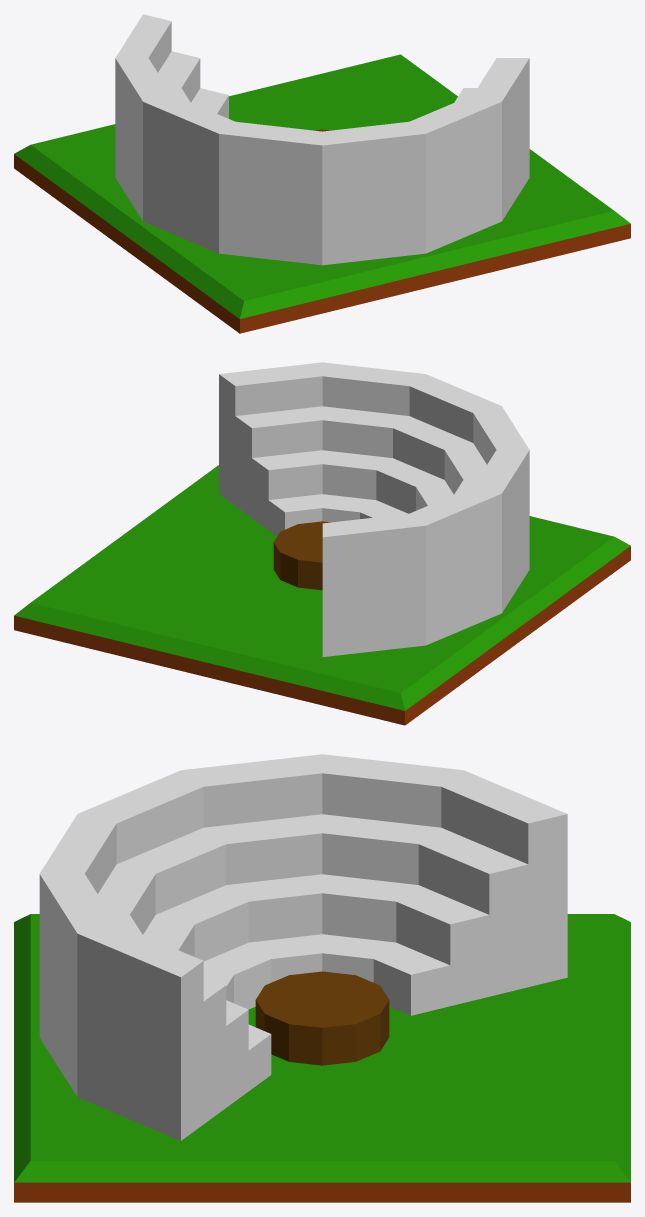
The model's file is Stage.fbx.
The picture shows the model from 3 angles, top to bottom: view 1: azimuth 30°, elevation 25°; view 2: azimuth 150°, elevation 25°; view 3: azimuth 270°, elevation 25°; orthographic projection. The views are drawn at different scales.
Parts seen in each view (by area): view 1: Stage; view 2: Stage; view 3: Stage.
Part boxes in pixels (x1,y1,x2,y2): Stage: (14, 14, 630, 333); Stage: (14, 362, 630, 725); Stage: (14, 754, 630, 1202).
Size of the model in its own units: 51.25 by 18.2 by 51.25.
